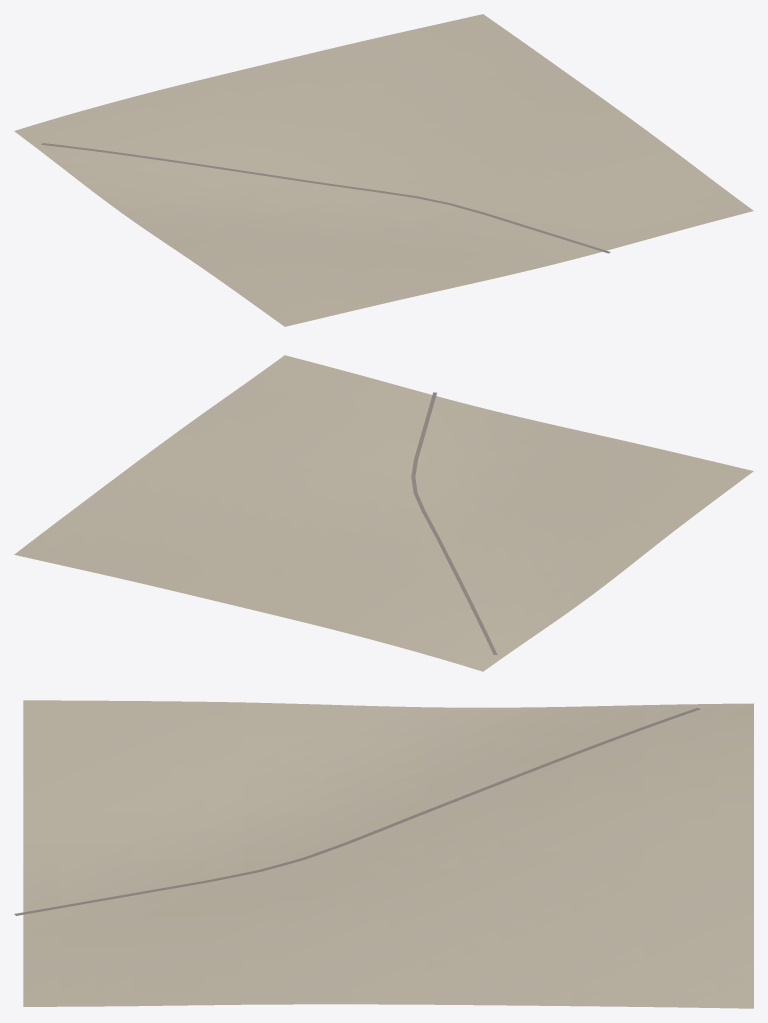
File: bolak_-38_-4.glb
3 views of the same model, one above another, from view 1: azimuth 30°, elevation 25°; view 2: azimuth 150°, elevation 25°; view 3: azimuth 270°, elevation 25° (orthographic). The views are drawn at different scales.
Parts seen in each view (by area): view 1: Yer_Tuproq-col, Temir_Yol; view 2: Yer_Tuproq-col, Temir_Yol; view 3: Yer_Tuproq-col, Temir_Yol.
Boxes of the visible parts, left/top/right/bottom form: Yer_Tuproq-col: left=14, top=14, right=753, bottom=326; Temir_Yol: left=41, top=143, right=610, bottom=253; Yer_Tuproq-col: left=14, top=355, right=753, bottom=671; Temir_Yol: left=411, top=392, right=497, bottom=654; Yer_Tuproq-col: left=23, top=700, right=753, bottom=1008; Temir_Yol: left=14, top=708, right=700, bottom=915.
Bounding box in the file's own units: 400 × 7.3 × 405.
